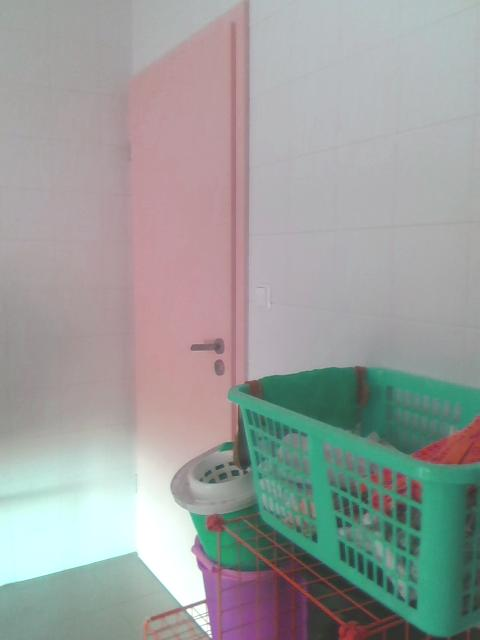closed_door: (128, 2, 246, 590)
